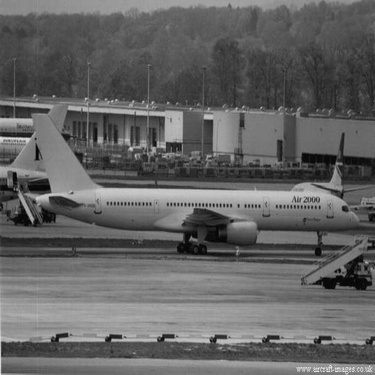airplane: (22, 100, 366, 258), (1, 93, 83, 204), (280, 123, 372, 212), (1, 103, 80, 144), (1, 139, 74, 168)
